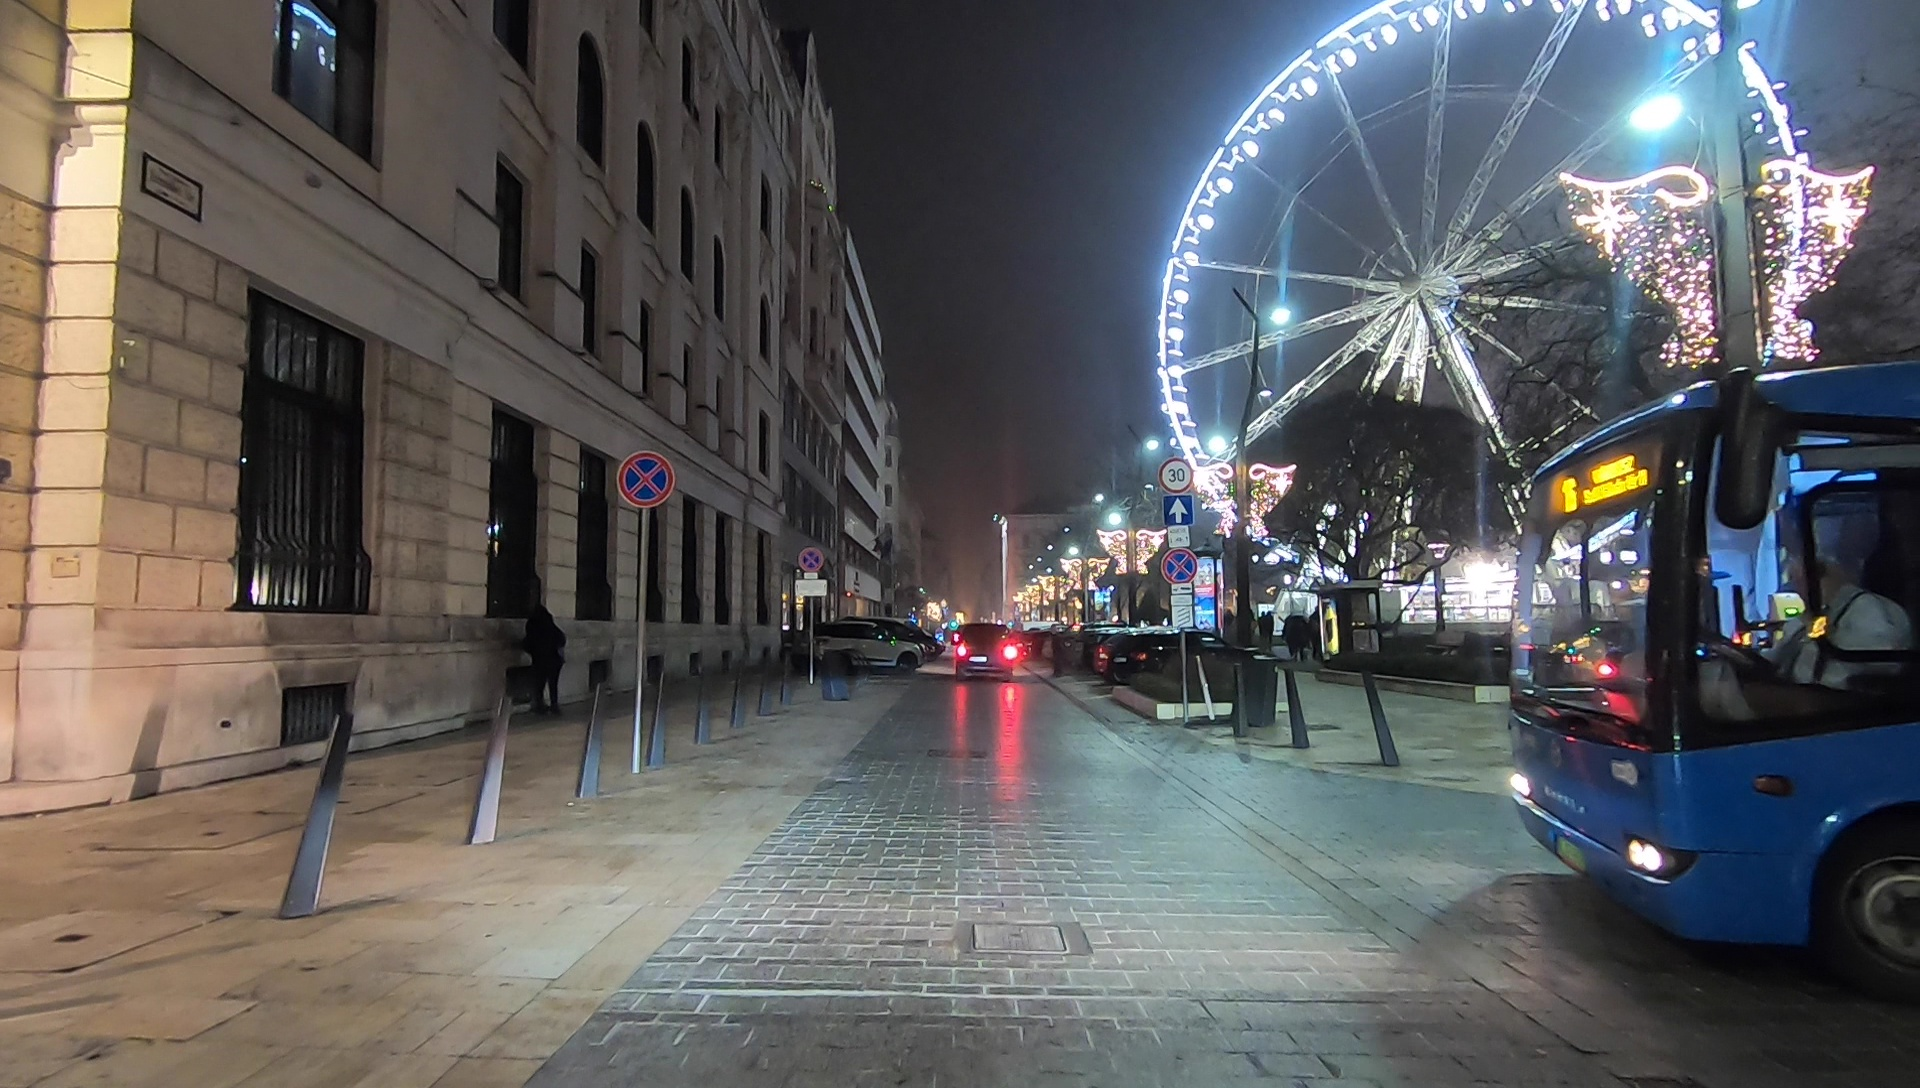person: (525, 604, 569, 708)
